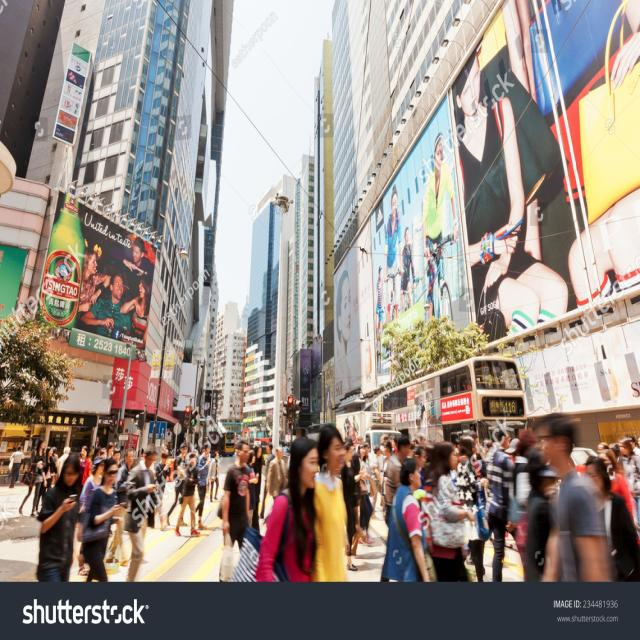body: (332, 0, 640, 398), (533, 413, 614, 582), (254, 437, 321, 583), (418, 439, 479, 582), (77, 233, 152, 349), (586, 455, 640, 581), (449, 424, 492, 582), (379, 456, 431, 583), (310, 421, 351, 582), (76, 456, 125, 582), (36, 453, 83, 584), (595, 433, 640, 567), (484, 423, 516, 598), (122, 443, 160, 582), (217, 440, 251, 581), (512, 428, 541, 582), (105, 447, 135, 567), (77, 455, 106, 576), (354, 432, 436, 466), (383, 433, 411, 528), (502, 438, 524, 554), (340, 442, 359, 572), (174, 452, 202, 538), (18, 438, 47, 518), (344, 435, 362, 556), (87, 434, 147, 470), (165, 441, 189, 526), (357, 443, 376, 546), (523, 446, 553, 506), (195, 440, 213, 530), (154, 449, 172, 532), (379, 439, 394, 529), (381, 439, 396, 528), (266, 445, 288, 501), (361, 441, 376, 520), (260, 441, 275, 519), (370, 444, 385, 520), (41, 447, 59, 509), (247, 448, 260, 528), (250, 444, 264, 512), (206, 450, 221, 503), (8, 444, 25, 490), (78, 445, 94, 491), (412, 444, 428, 490), (4, 446, 22, 485), (56, 446, 71, 479), (51, 447, 60, 482), (164, 442, 182, 457), (344, 418, 355, 439), (26, 442, 37, 462), (191, 443, 206, 457)
